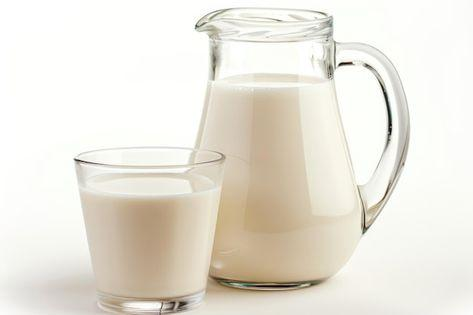produk_susu: (218, 19, 368, 290), (80, 150, 210, 315)
